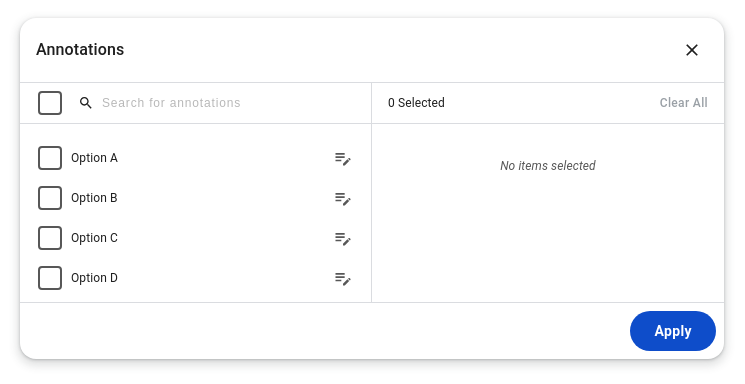
FilterAnnotationsMultiSelect › search functionality › should filter options based on search term
The image size is (745, 384).
Type "Option A" into the field with placeholder "Search for annotations" at (230, 103), box top-left (102, 94), bottom-right (359, 112)
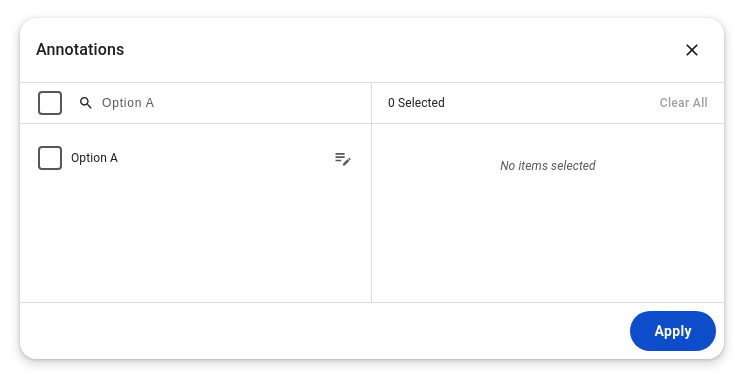
Check: the text "Option A" is shown, box top-left (71, 151), bottom-right (118, 165)
Check: the text "Option B" is gone
